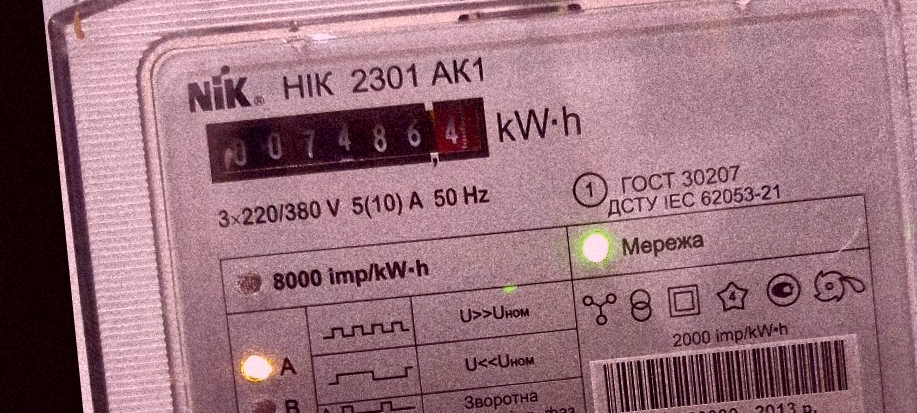0: (227, 133, 250, 168), (263, 127, 284, 162)
4: (332, 117, 353, 154), (440, 112, 460, 147)
6: (403, 115, 425, 149)
7: (295, 125, 321, 160)
8: (369, 120, 389, 156)
screen: (194, 83, 499, 196)
